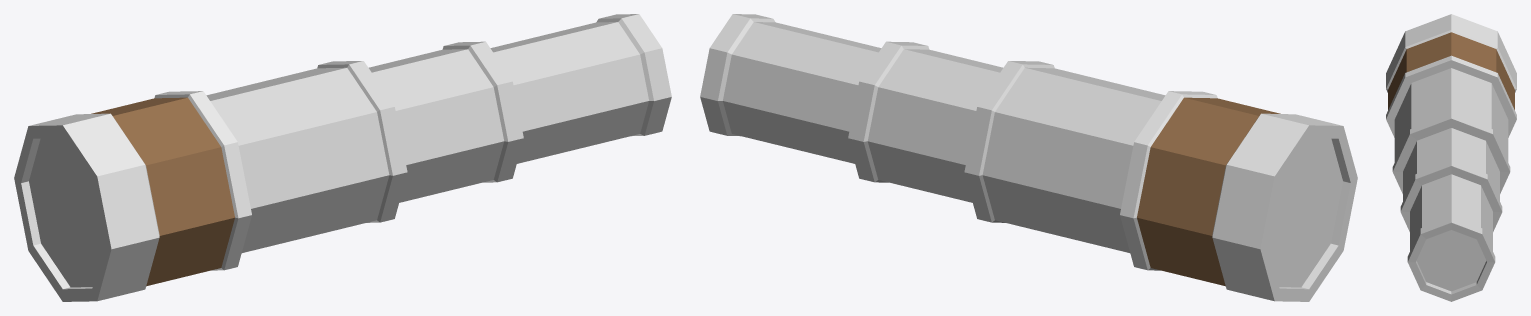
The model's file is SM_Spyglass_01.fbx.
The picture shows the model from 3 angles, left to right: view 1: azimuth 30°, elevation 25°; view 2: azimuth 150°, elevation 25°; view 3: azimuth 270°, elevation 25°; orthographic projection. The views are drawn at different scales.
Parts seen in each view (by area): view 1: Part.1, Part.2, Part.4, Part.3, Glass.Major; view 2: Part.1, Part.2, Part.4, Part.3, Glass.Major; view 3: Part.1, Part.2, Part.4, Part.3, Glass.Minor.
Part boxes in pixels (left/top/right/bottom): Part.1: left=14, top=91, right=251, bottom=301; Part.2: left=206, top=61, right=407, bottom=252; Part.4: left=490, top=14, right=671, bottom=163; Part.3: left=369, top=41, right=523, bottom=202; Glass.Major: left=29, top=138, right=104, bottom=287; Part.1: left=1120, top=91, right=1357, bottom=301; Part.2: left=964, top=61, right=1165, bottom=252; Part.4: left=700, top=14, right=881, bottom=163; Part.3: left=848, top=41, right=1002, bottom=202; Glass.Major: left=1267, top=138, right=1342, bottom=287; Part.1: left=1386, top=14, right=1516, bottom=137; Part.2: left=1392, top=68, right=1510, bottom=193; Part.4: left=1407, top=174, right=1495, bottom=301; Part.3: left=1400, top=128, right=1502, bottom=231; Glass.Minor: left=1416, top=230, right=1486, bottom=291.
Size of the model in its own units: 25.6 by 7.49 by 7.49.
